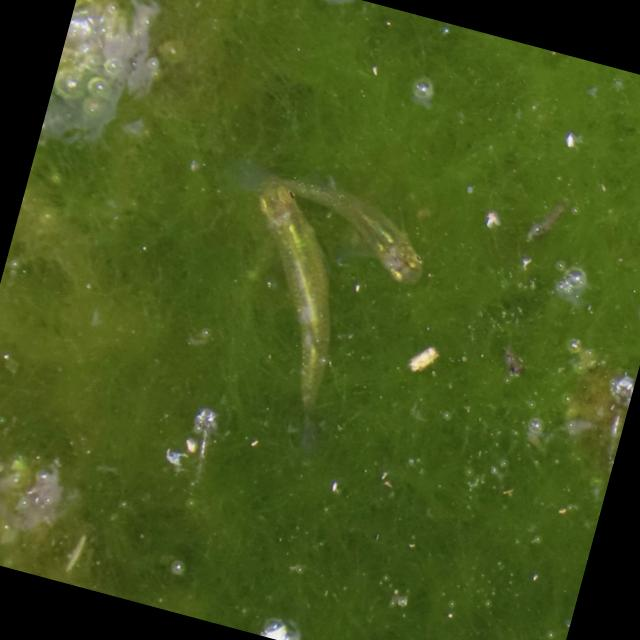Sivrisinek Baligi: (198, 175, 372, 408), (252, 166, 446, 293)
